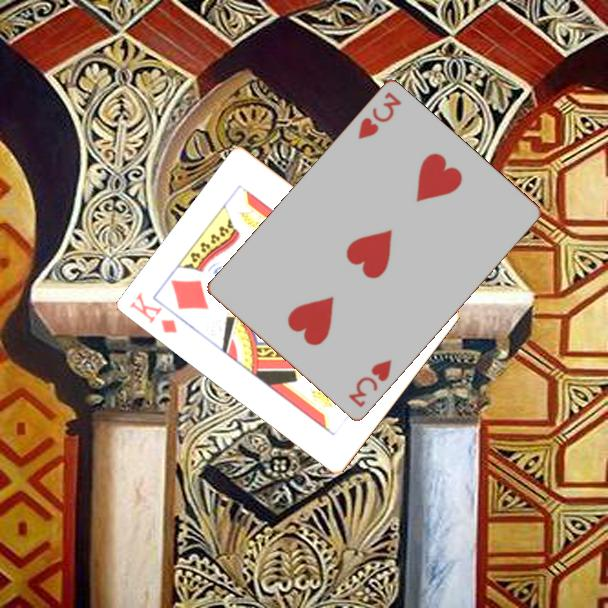d13: (126, 288, 181, 336)
h03: (354, 88, 405, 143), (345, 356, 395, 411)
